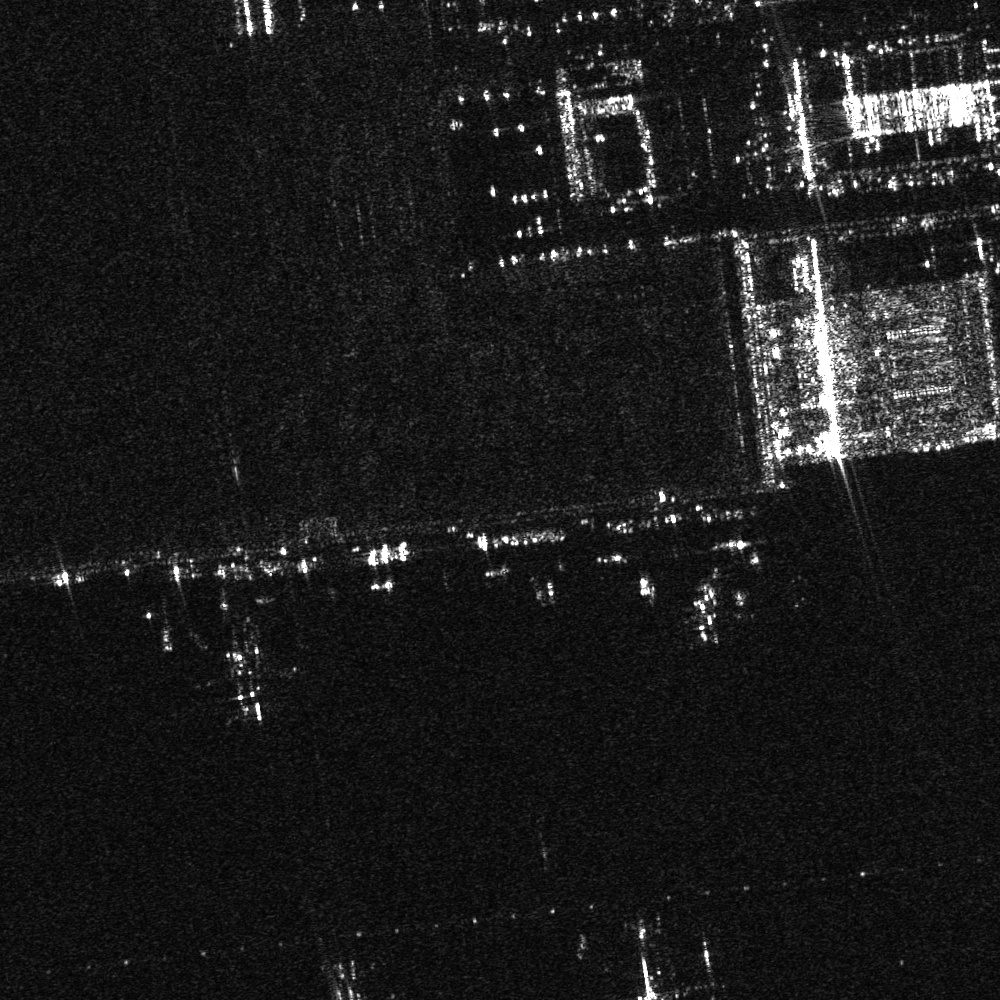A220: (665, 566, 748, 645)
A320/321: (191, 616, 299, 729)
